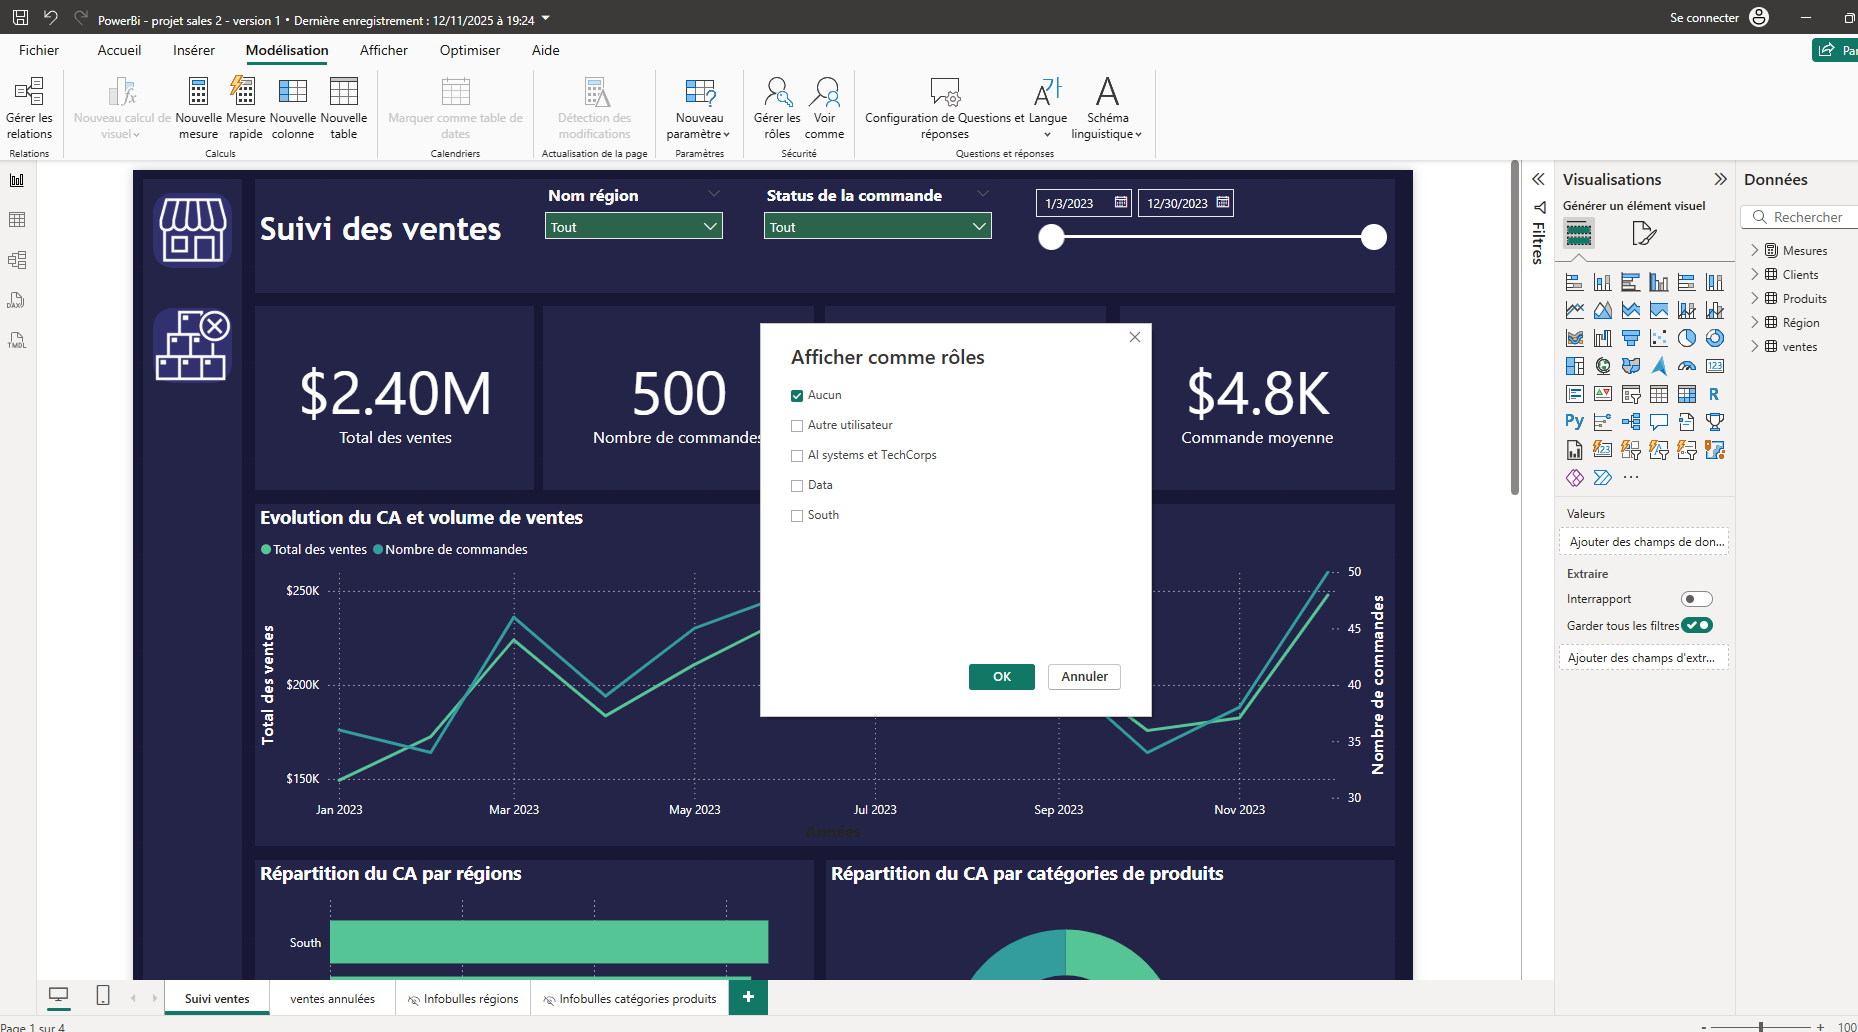

The dashboard page shown, as its layout file describes it:
{"tool":"powerbi","page":{"name":"Suivi ventes","canvas":[1280,2000],"ordinal":0},"visuals":[{"type":"shape","box":[9.9,8.9,99.3,1963.2],"z":0},{"type":"shape","box":[122.1,8.9,1140,114.2],"z":1000},{"type":"shape","box":[122.1,136,279,183.7],"z":2000},{"type":"shape","box":[410.1,136,271.1,183.7],"z":3000},{"type":"shape","box":[692.1,136,281,183.7],"z":4000},{"type":"shape","box":[987.1,136,275.1,183.7],"z":5000},{"type":"shape","box":[122.1,333.7,1140,342.6],"z":6000},{"type":"shape","box":[122.1,690.1,559.1,342.6],"z":7000},{"type":"shape","box":[693.1,690.1,569,342.6],"z":8000},{"type":"shape","box":[122.1,1047.6,1140,924.5],"z":9000},{"type":"textbox","box":[122.1,34.8,279,50.6],"z":10000},{"type":"card","fields":{"Values":["Clients.Total des ventes"]},"box":[123.1,136,279,183.7],"z":11000},{"type":"card","fields":{"Values":["ventes.Nombre de commandes"]},"box":[410.1,136,271.1,183.7],"z":12000},{"type":"card","fields":{"Values":["ventes.Quantité de produits vendus"]},"box":[693.1,136,280,183.7],"z":13000},{"type":"card","fields":{"Values":["ventes.Commande moyenne"]},"box":[987.1,136,275.1,183.7],"z":14000},{"type":"lineChart","title":"Evolution du CA et volume de ventes","fields":{"Category":["ventes.Date commande.Variation.Hiérarchie de dates.Année","ventes.Date commande.Variation.Hiérarchie de dates.Trimestre","ventes.Date commande.Variation.Hiérarchie de dates.Mois","ventes.Date commande.Variation.Hiérarchie de dates.Jour"],"Y":["Mesures.Total des ventes"],"Y2":["Mesures.Nombre de commandes"]},"box":[122.1,333.7,1140,342.6],"z":15000},{"type":"barChart","title":"Répartition du CA par régions","fields":{"Y":["Mesures.Total des ventes"],"Category":["Région.Nom région"]},"box":[122.1,690.1,559.1,342.6],"z":16000},{"type":"donutChart","title":"Répartition du CA par catégories de produits","fields":{"Category":["Produits.Catégorie"],"Y":["Mesures.Total des ventes"]},"box":[693.1,690.1,569,342.6],"z":17000},{"type":"shape","box":[19.9,22.8,79.4,75.5],"z":17500},{"type":"tableEx","fields":{"Values":["ventes.ID commande","ventes.Date commande","Clients.Nom client","Sum(ventes.Prix total)","Sum(ventes.Quantité)","ventes.Status de la commande"]},"box":[123.1,1047.6,1139,533.3],"z":18000},{"type":"slicer","fields":{"Values":["Région.Nom région"]},"box":[402.2,8.9,197.6,114.2],"z":19000},{"type":"slicer","fields":{"Values":["ventes.Status de la commande"]},"box":[620.6,8.9,248.3,114.2],"z":20000},{"type":"slicer","fields":{"Values":["ventes.Date commande"]},"box":[889.7,8.9,372.4,114.2],"z":21000},{"type":"image","box":[9.9,10.9,99.3,98.3],"z":24500},{"type":"shape","box":[19.9,138,79.4,75.5],"z":25000},{"type":"image","box":[9.9,123.1,99.3,105.3],"z":25500}]}

Visuals, with their boxes on the page's 1280x2000 design canvas (x1, y1, x2, y2). These are canvas units, not pixel positions in the 1858x1032 screenshot, which may show the page scaled, cropped or inside an application window:
shape: (10,9,109,1972)
shape: (122,9,1262,123)
shape: (122,136,401,320)
shape: (410,136,681,320)
shape: (692,136,973,320)
shape: (987,136,1262,320)
shape: (122,334,1262,676)
shape: (122,690,681,1033)
shape: (693,690,1262,1033)
shape: (122,1048,1262,1972)
textbox: (122,35,401,85)
card - Clients.Total des ventes: (123,136,402,320)
card - ventes.Nombre de commandes: (410,136,681,320)
card - ventes.Quantité de produits vendus: (693,136,973,320)
card - ventes.Commande moyenne: (987,136,1262,320)
"Evolution du CA et volume de ventes" lineChart: (122,334,1262,676)
"Répartition du CA par régions" barChart: (122,690,681,1033)
"Répartition du CA par catégories de produits" donutChart: (693,690,1262,1033)
shape: (20,23,99,98)
tableEx - ventes.ID commande x ventes.Date commande: (123,1048,1262,1581)
slicer - Région.Nom région: (402,9,600,123)
slicer - ventes.Status de la commande: (621,9,869,123)
slicer - ventes.Date commande: (890,9,1262,123)
image: (10,11,109,109)
shape: (20,138,99,214)
image: (10,123,109,228)
